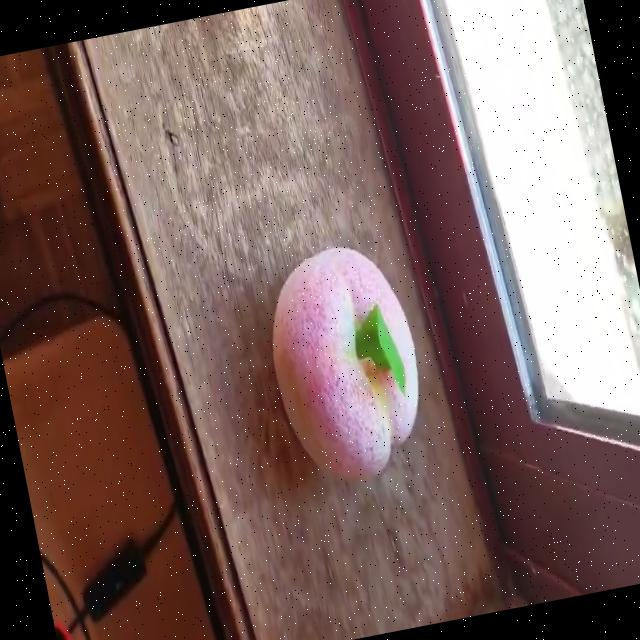peach: (272, 247, 417, 481)
